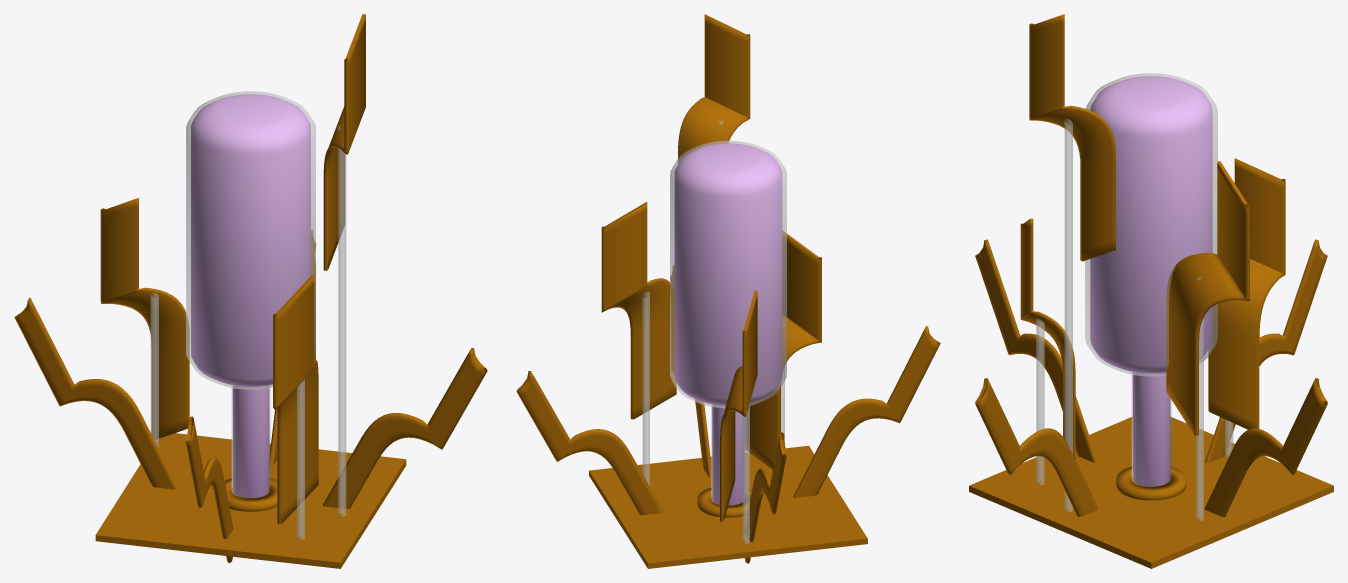
Rendered from Feature Stairwell.fbx.
3 views of the same model, side by side, from view 1: azimuth 30°, elevation 25°; view 2: azimuth 150°, elevation 25°; view 3: azimuth 270°, elevation 25° (orthographic). The views are drawn at different scales.
Visible parts, largest first — view 1: Feature Stairwell; view 2: Feature Stairwell; view 3: Feature Stairwell.
Boxes of the visible parts, bbox=[...] form: Feature Stairwell: bbox=[14, 14, 487, 568]; Feature Stairwell: bbox=[516, 14, 940, 568]; Feature Stairwell: bbox=[969, 14, 1333, 568].
Size of the model in its own units: 707 by 1150 by 707.
